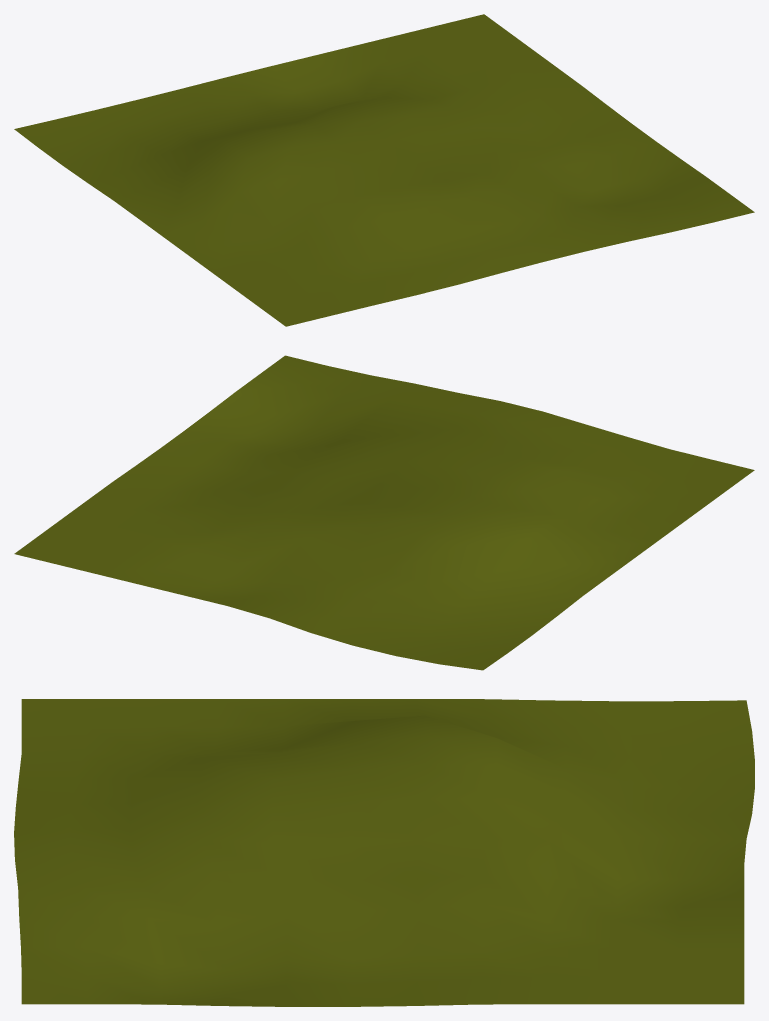
The model's file is jungleGround.glb.
3 renders of one model, top to bottom at view 1: azimuth 30°, elevation 25°; view 2: azimuth 150°, elevation 25°; view 3: azimuth 270°, elevation 25°, orthographic. The views are drawn at different scales.
Parts seen in each view (by area): view 1: Plane; view 2: Plane; view 3: Plane.
Part boxes in pixels (x1,y1,x2,y2): Plane: [14, 14, 754, 326]; Plane: [14, 355, 754, 670]; Plane: [14, 699, 754, 1006].
Size of the model in its own units: 472 by 41.25 by 483.
